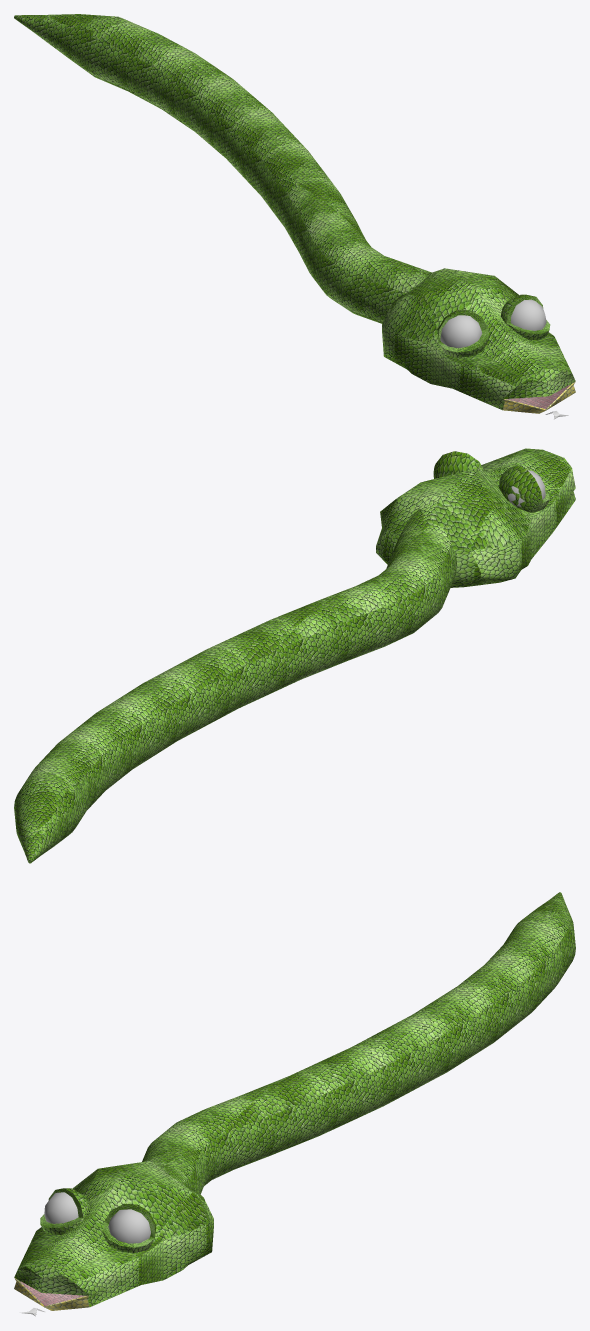
Rendered from serpent.FBX.
3 renders of one model, top to bottom at view 1: azimuth 30°, elevation 25°; view 2: azimuth 150°, elevation 25°; view 3: azimuth 330°, elevation 25°, orthographic. The views are drawn at different scales.
Visible parts, largest first — view 1: Ligne001, Boîte001, Sphère003, Sphère001, Sphère007, Sphère005; view 2: Ligne001, Boîte001, Sphère001, Sphère005; view 3: Ligne001, Boîte001, Sphère007, Sphère005, Sphère001, Sphère003.
Part boxes in pixels (x1,y1,x2,y2): Ligne001: [14, 14, 431, 323]; Boîte001: [382, 268, 575, 413]; Sphère003: [440, 315, 482, 348]; Sphère001: [437, 310, 488, 357]; Sphère007: [510, 299, 546, 330]; Sphère005: [500, 294, 550, 340]; Ligne001: [14, 509, 457, 863]; Boîte001: [376, 448, 575, 587]; Sphère001: [499, 465, 549, 512]; Sphère005: [433, 451, 486, 478]; Ligne001: [142, 892, 575, 1194]; Boîte001: [14, 1161, 213, 1310]; Sphère007: [108, 1209, 150, 1243]; Sphère005: [103, 1203, 156, 1252]; Sphère001: [40, 1188, 90, 1234]; Sphère003: [44, 1192, 78, 1223].
Bounding box in the file's own units: 48.12 × 29.58 × 322.
